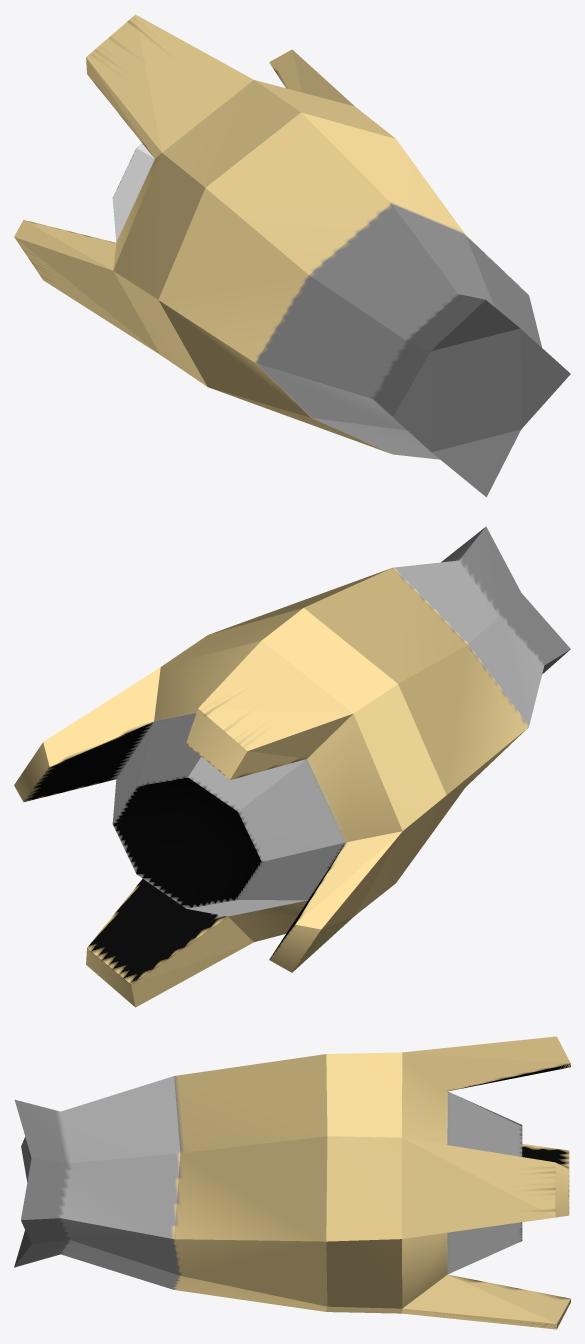
The model's file is turbine 6.FBX.
The picture shows the model from 3 angles, top to bottom: view 1: azimuth 30°, elevation 25°; view 2: azimuth 150°, elevation 25°; view 3: azimuth 270°, elevation 25°; orthographic projection. The views are drawn at different scales.
Visible parts, largest first — view 1: Box001; view 2: Box001; view 3: Box001.
Part boxes in pixels (<box>): Box001: <box>14,14,570,497</box>; Box001: <box>14,526,570,1007</box>; Box001: <box>14,1036,570,1329</box>.
Bounding box in the file's own units: 18.12 × 17.72 × 33.48.
Materials: 1 (1 with a texture image).
